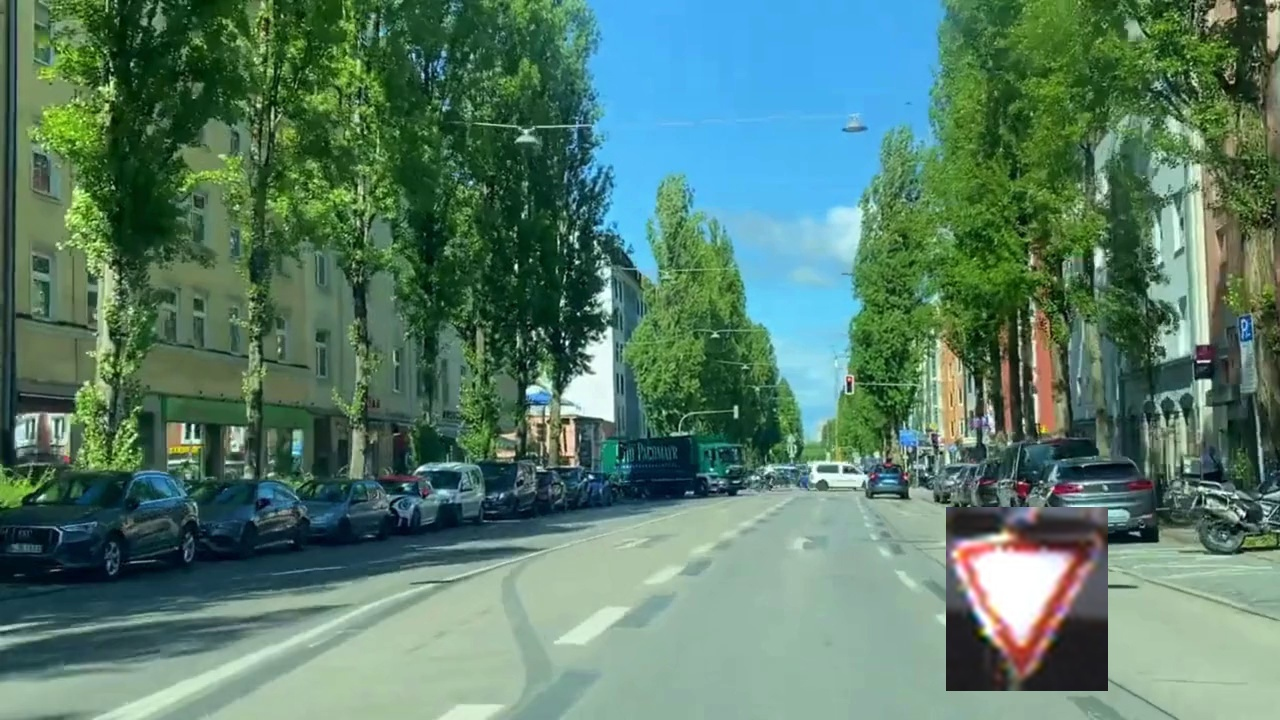Yield: (946, 507, 1108, 691)
